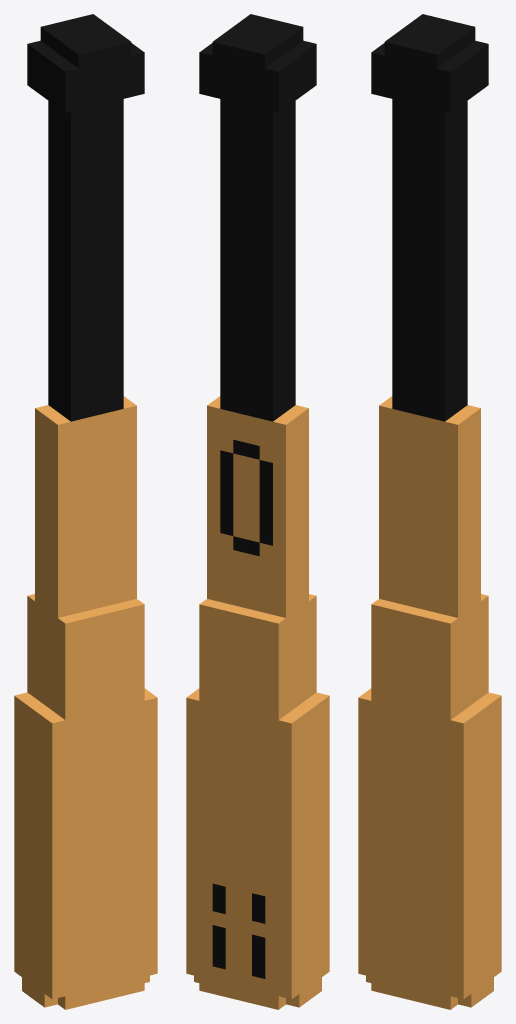
The model's file is bat.obj.
3 renders of one model, left to right at view 1: azimuth 30°, elevation 25°; view 2: azimuth 150°, elevation 25°; view 3: azimuth 330°, elevation 25°, orthographic.
Visible parts, largest first — view 1: Untitled.054; view 2: Untitled.054; view 3: Untitled.054.
Boxes of the visible parts, x1,y1,x2,y2 form: Untitled.054: (14, 14, 157, 1009); Untitled.054: (186, 14, 329, 1009); Untitled.054: (358, 14, 501, 1009).
Size of the model in its own units: 0.8 by 6.9 by 0.5.
Materials: 1 (1 with a texture image).
